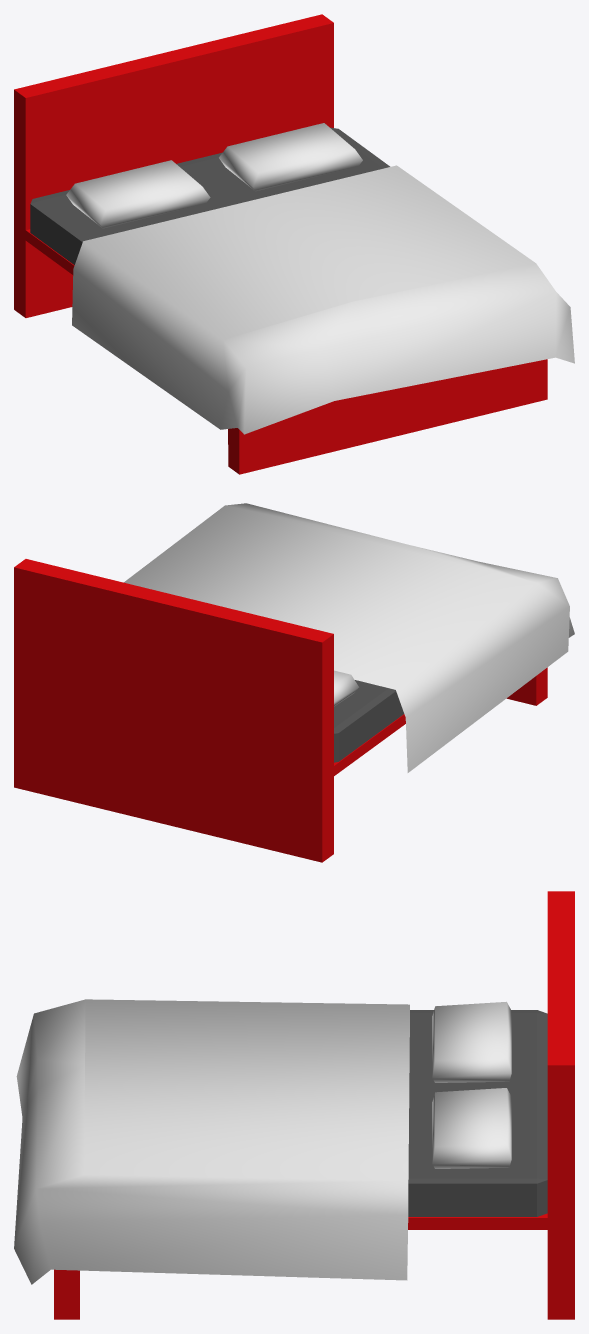
File: LitDouble3.fbx
3 renders of one model, top to bottom at view 1: azimuth 30°, elevation 25°; view 2: azimuth 150°, elevation 25°; view 3: azimuth 270°, elevation 25°, orthographic. The views are drawn at different scales.
Visible parts, largest first — view 1: LitSimple; view 2: LitSimple; view 3: LitSimple.
Boxes of the visible parts, box(x1,y1,x2,y2) form: LitSimple: box(14, 14, 574, 474); LitSimple: box(14, 503, 574, 862); LitSimple: box(14, 891, 574, 1319).
Size of the model in its own units: 500 by 300 by 599.
